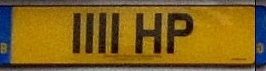character: (134, 10, 162, 54), (166, 11, 194, 53), (84, 10, 95, 54), (97, 11, 107, 54), (72, 11, 81, 54), (110, 11, 119, 53)
